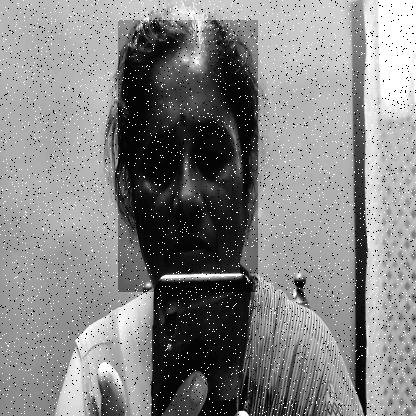Distracted: (118, 20, 258, 292)
